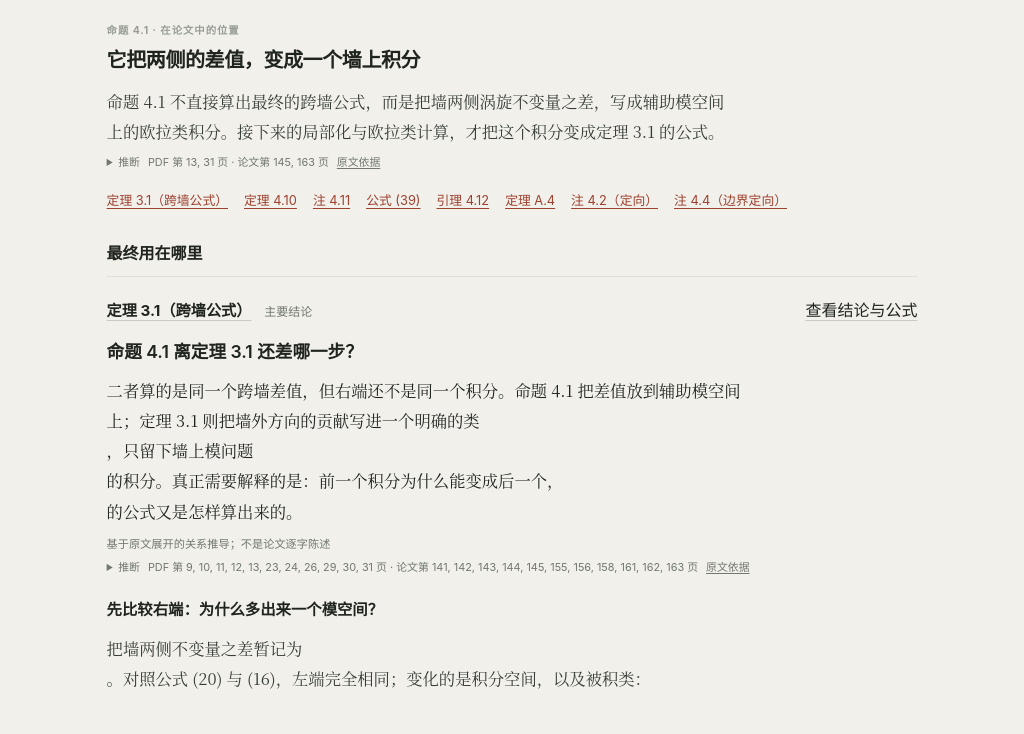
Test: 相关结论陈述 › 可以展开必要定义和墙条件，并从这些定义定位原文
Click the button "定理 3.1（跨墙公式）": (179, 311) [107,297,251,324]
(page scrolled)
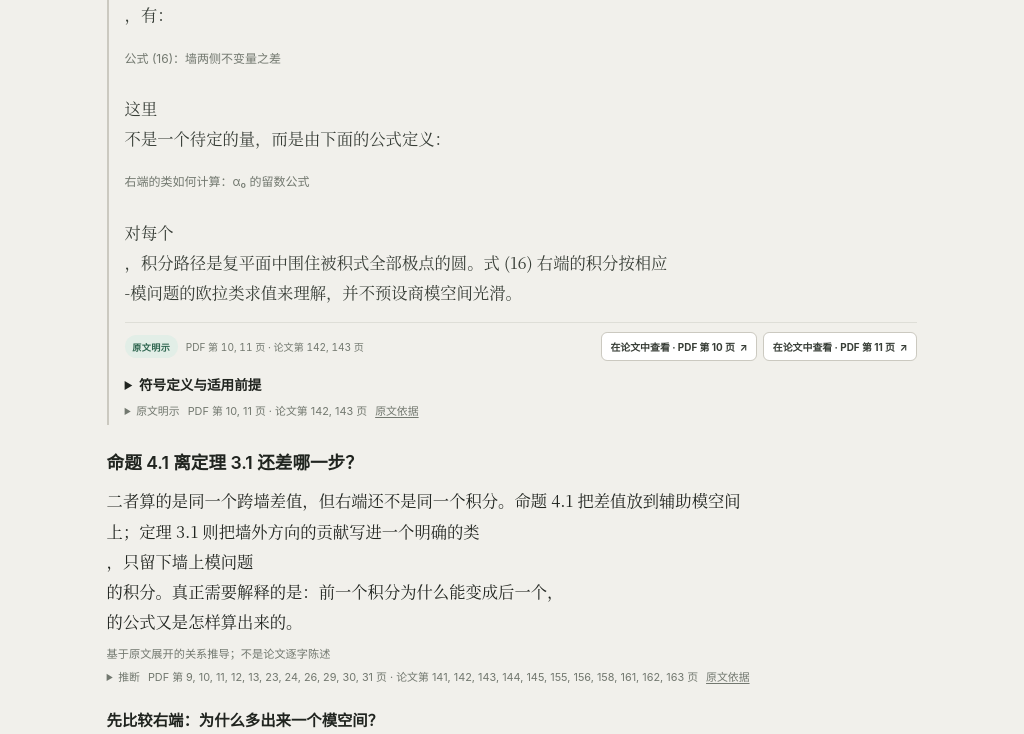
Click the heading "符号定义与适用前提": (200, 386) [139,378,261,394]
(page scrolled)
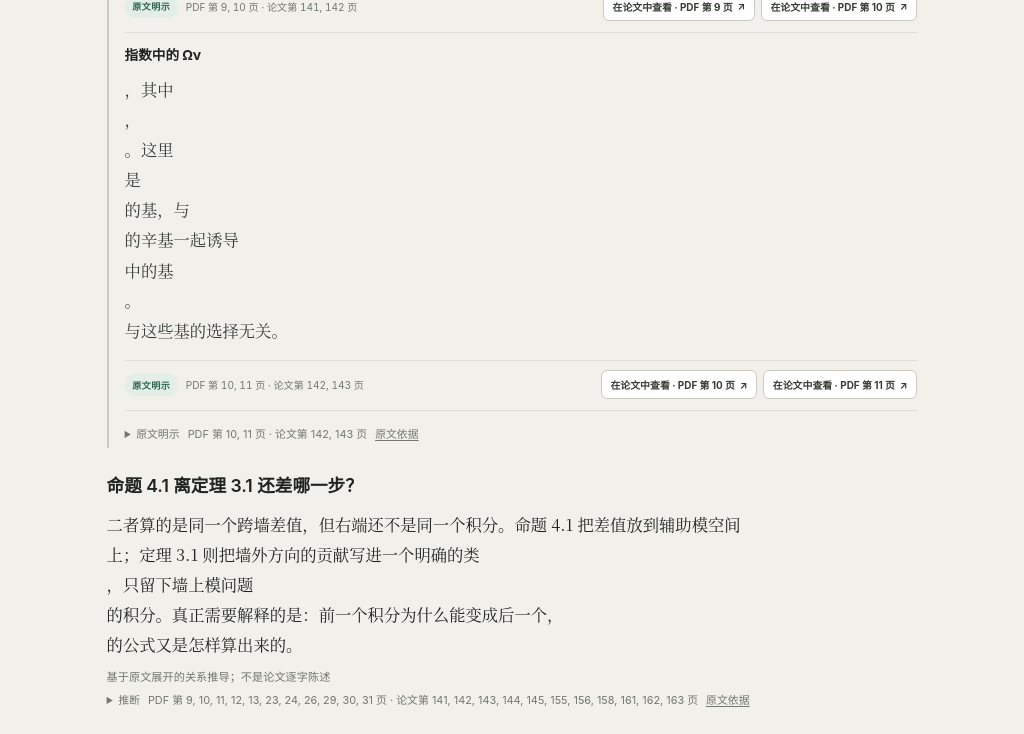
Expected: the text "指数中的 Ων" is shown, [125,47,201,63]
Expected: the link "在论文中查看 · PDF 第 11 页 ↗" is shown, [763,370,917,399]
